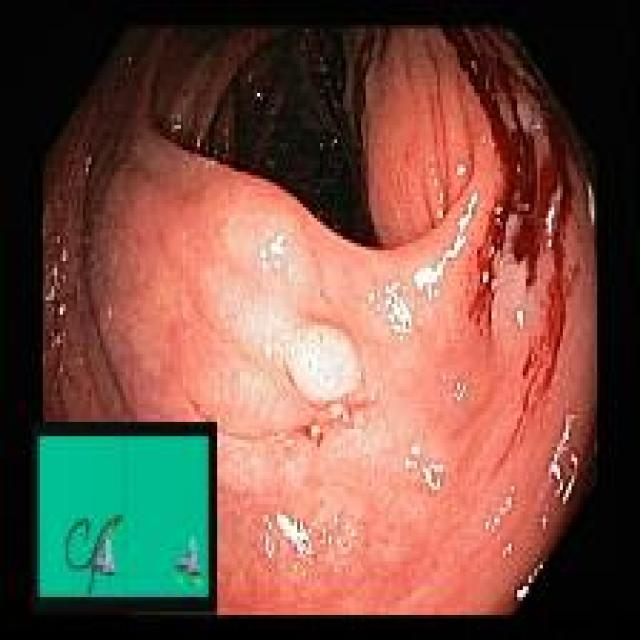Polyps: (284, 324, 360, 403)
